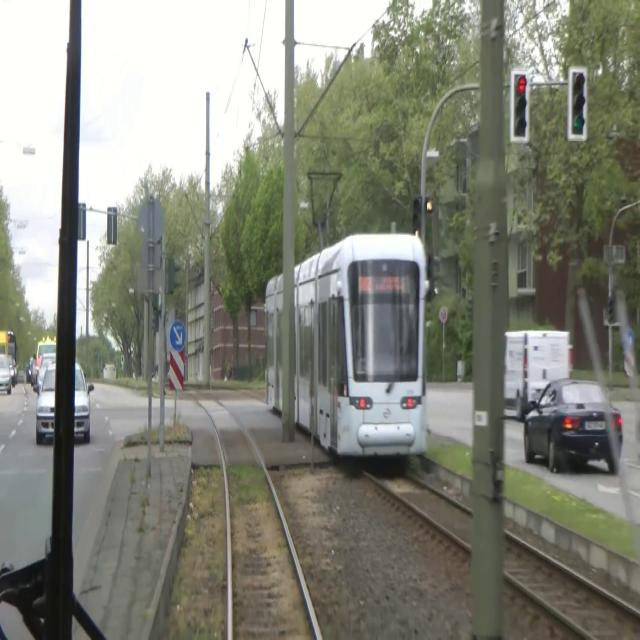rail-track: (193, 393, 317, 639), (506, 538, 640, 639), (369, 469, 470, 538)
